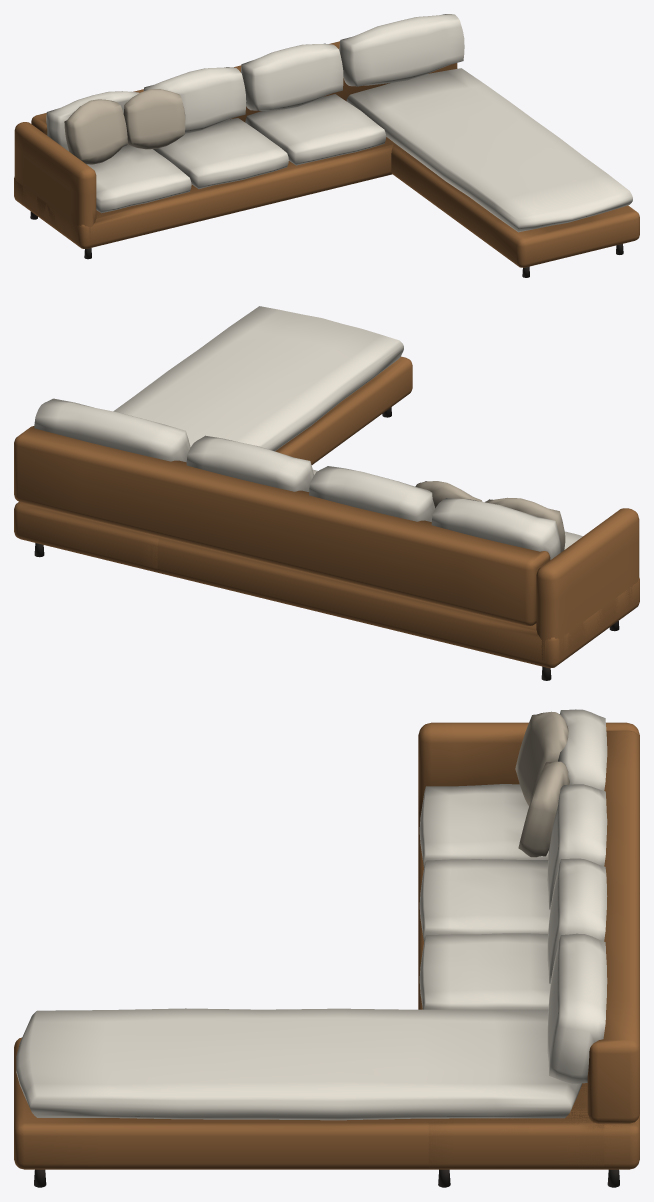
File: salon_jardin.glb
3 views of the same model, one above another, from view 1: azimuth 30°, elevation 25°; view 2: azimuth 150°, elevation 25°; view 3: azimuth 270°, elevation 25° (orthographic). The views are drawn at different scales.
Parts seen in each view (by area): view 1: assises, socle, dossiers, coussins; view 2: socle, assises, dossiers, coussins; view 3: assises, socle, dossiers, coussins, pieds.
Part boxes in pixels (<box>): assises: <box>87,68,632,232</box>; socle: <box>14,41,639,267</box>; dossiers: <box>46,14,464,151</box>; coussins: <box>64,89,185,164</box>; socle: <box>14,356,639,668</box>; assises: <box>113,306,582,549</box>; dossiers: <box>34,398,560,559</box>; coussins: <box>415,481,565,552</box>; assises: <box>16,784,582,1120</box>; socle: <box>14,722,639,1169</box>; dossiers: <box>547,709,607,1083</box>; coussins: <box>515,711,569,857</box>; pieds: <box>34,1169,619,1187</box>.
Size of the model in its own units: 3 by 0.7999 by 2.4.
